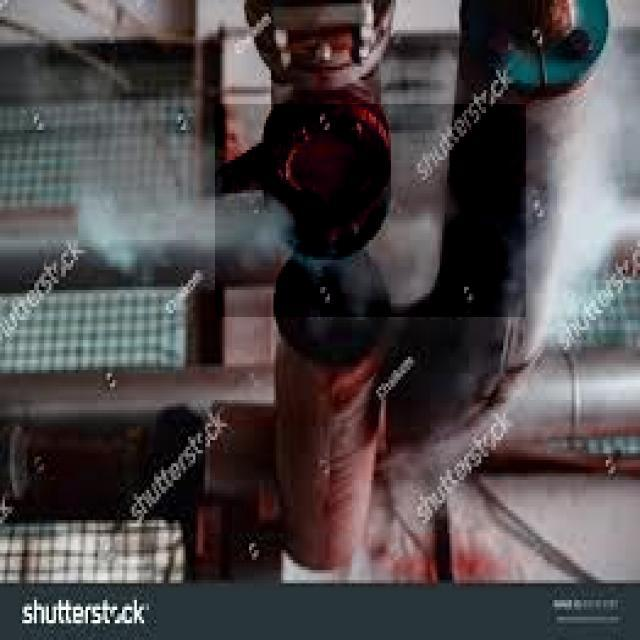corrosion: (96, 191, 272, 326)
